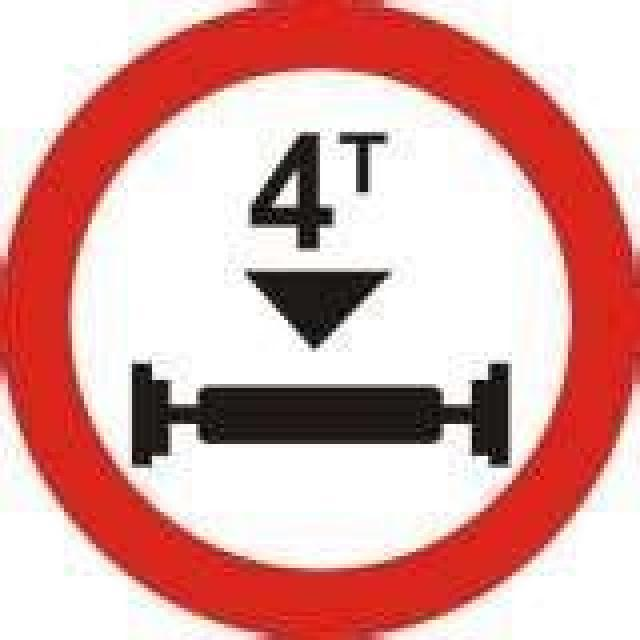axle load limit: (15, 18, 623, 628)
